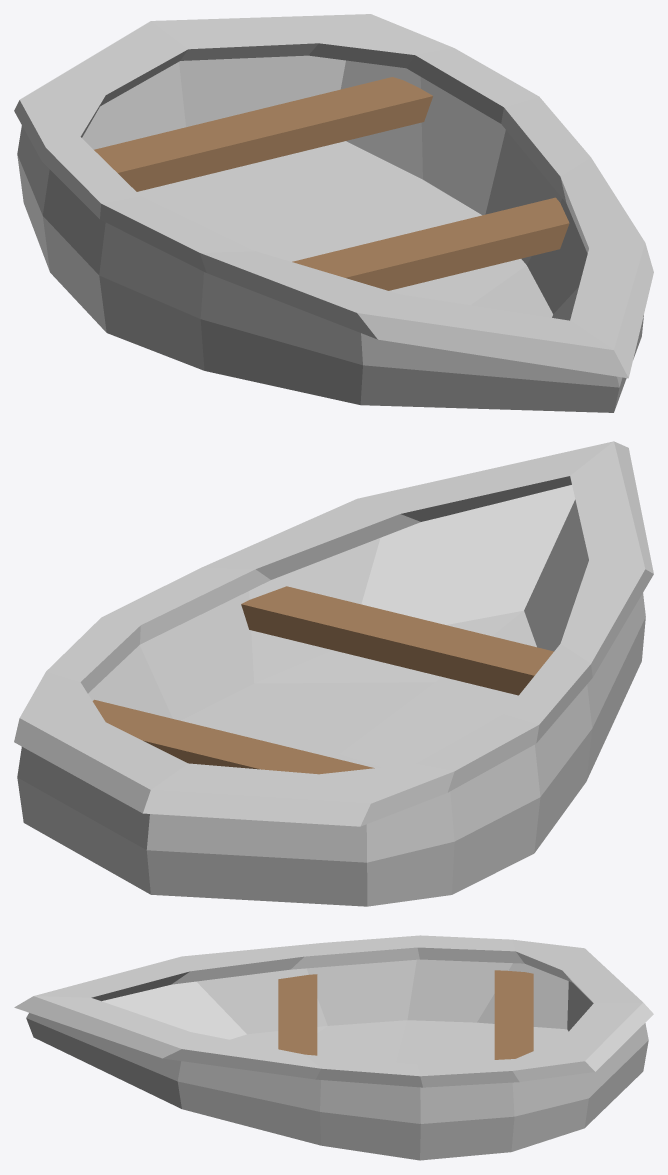
The model's file is MainShip.fbx.
3 renders of one model, top to bottom at view 1: azimuth 30°, elevation 25°; view 2: azimuth 150°, elevation 25°; view 3: azimuth 270°, elevation 25°, orthographic. The views are drawn at different scales.
Visible parts, largest first — view 1: Cube, Cube.003; view 2: Cube, Cube.003; view 3: Cube, Cube.003.
Boxes of the visible parts, x1=… form: Cube: x1=14, y1=14, x2=653, y2=412; Cube.003: x1=94, y1=77, x2=569, y2=290; Cube: x1=14, y1=441, x2=653, y2=906; Cube.003: x1=92, y1=586, x2=553, y2=774; Cube: x1=14, y1=935, x2=653, y2=1160; Cube.003: x1=278, y1=970, x2=533, y2=1059.
Size of the model in its own units: 251 by 101 by 479.
